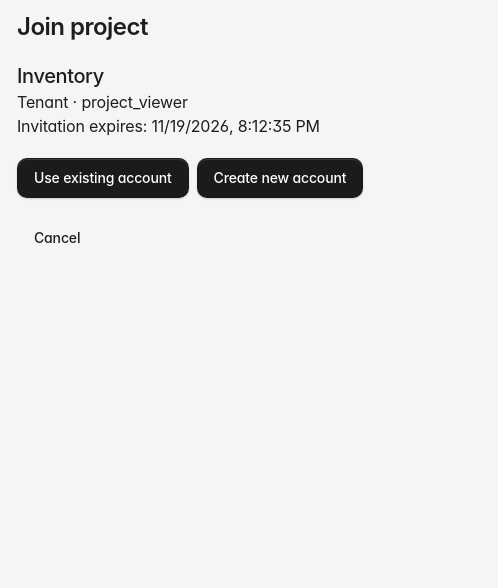
Scenario: requires existing account credentials on the invitation page
Check: the heading "Inventory" is shown, box [17,64,104,88]
Click the button "Use existing account".
click(103, 178)  # box [17,158,189,198]
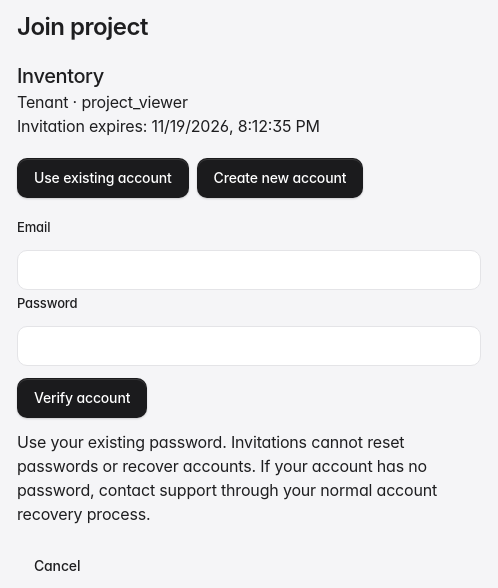
Type "person@example.test" into the field labelled "Email".
click(249, 270); type("person@example.test")  # box [17,250,481,290]
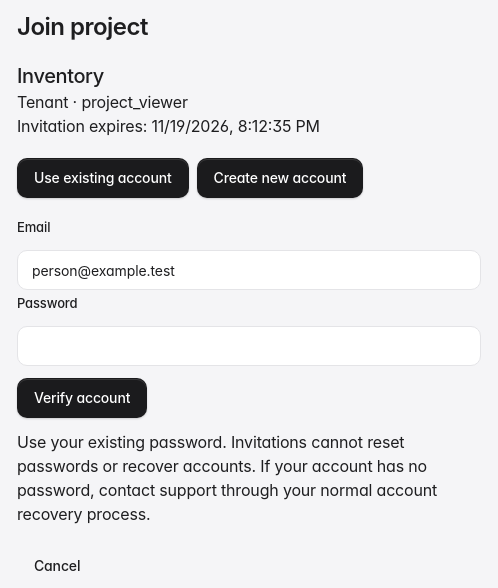
Type "account-password" into the password field labelled "Password".
click(249, 346); type("account-password")  # box [17,326,481,366]
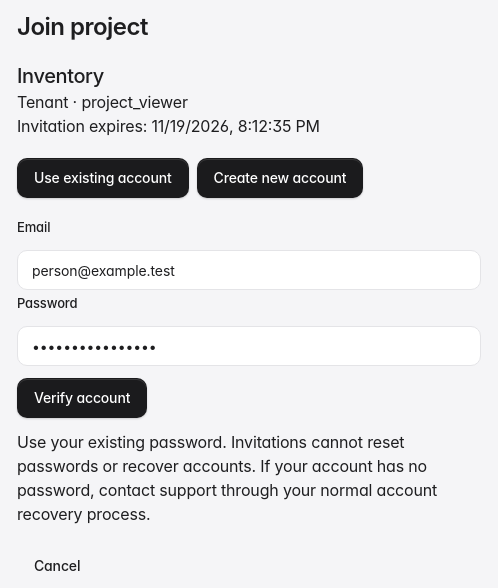
Click the button "Verify account".
click(82, 398)  # box [17,378,147,418]
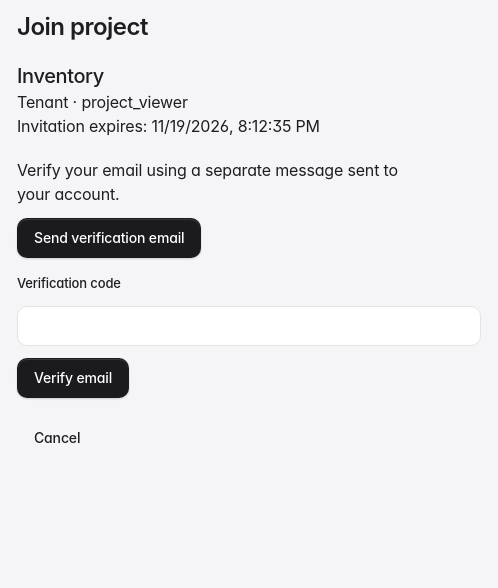
Check: the button "Send verification email" is shown, box [17,218,202,258]
Check: the label labelled "Password" is gone
